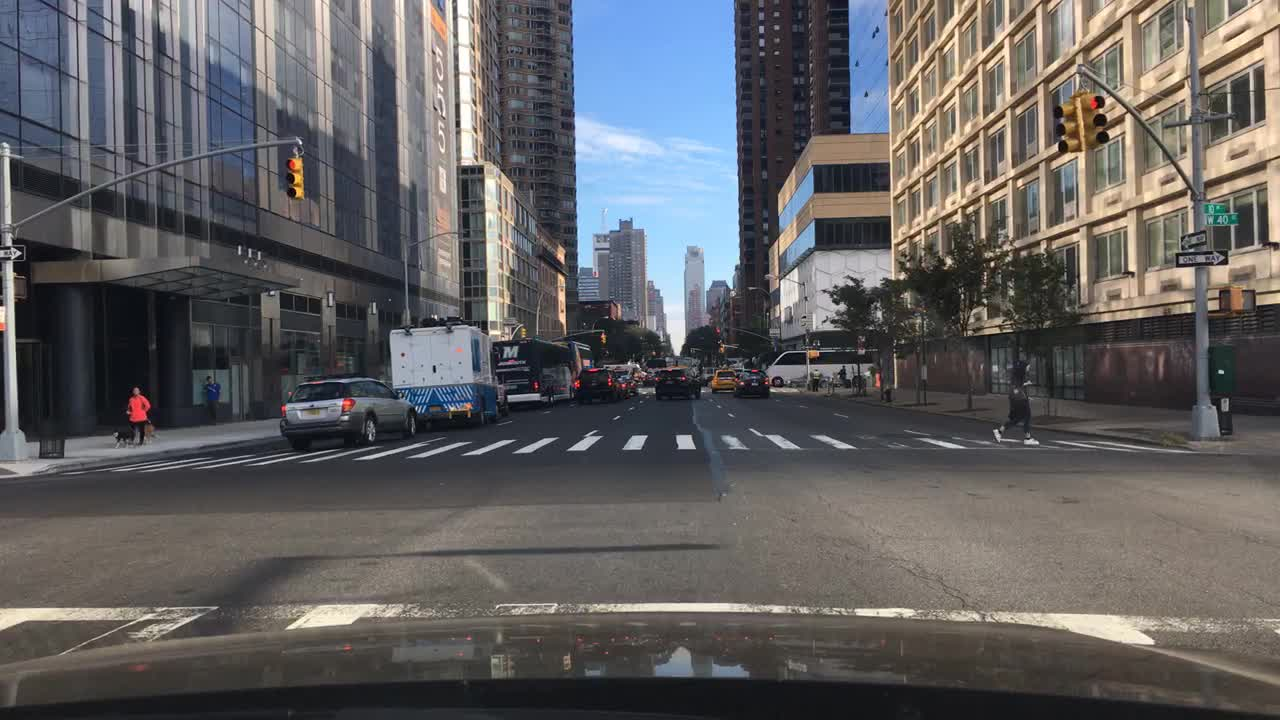bus: (491, 339, 576, 408), (771, 350, 875, 388), (646, 354, 675, 369)
car: (278, 375, 416, 450), (653, 365, 702, 401), (575, 370, 617, 401), (734, 368, 768, 395), (495, 376, 510, 419), (711, 369, 732, 394), (623, 374, 636, 396), (615, 373, 623, 396), (643, 371, 655, 385)
person: (990, 359, 1041, 446), (123, 386, 152, 446), (200, 374, 222, 426), (838, 364, 847, 390), (811, 368, 821, 391)
traffic light: (1078, 91, 1106, 147), (1054, 98, 1078, 152), (285, 157, 303, 199), (1220, 286, 1239, 311), (1240, 290, 1255, 311), (11, 277, 26, 296), (807, 351, 818, 358), (600, 333, 606, 344), (520, 326, 526, 336)
traffic sign: (1175, 249, 1230, 264), (1180, 230, 1207, 248), (1205, 212, 1241, 225), (0, 245, 24, 259), (1202, 202, 1225, 212)
truck: (388, 315, 500, 430)
